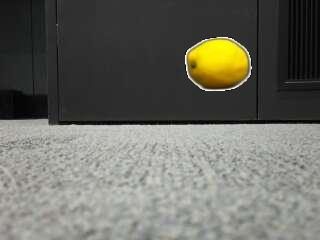lemon: (188, 40, 249, 89)
